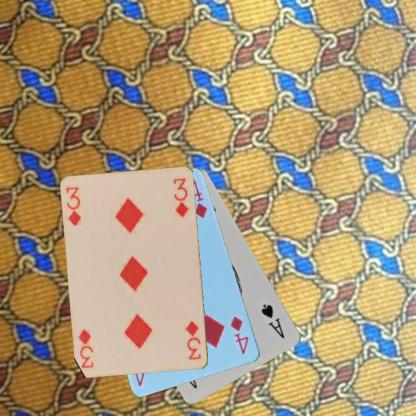3d: (183, 318, 202, 362), (64, 184, 83, 227)
4d: (228, 314, 250, 355)
As: (259, 301, 286, 340)
